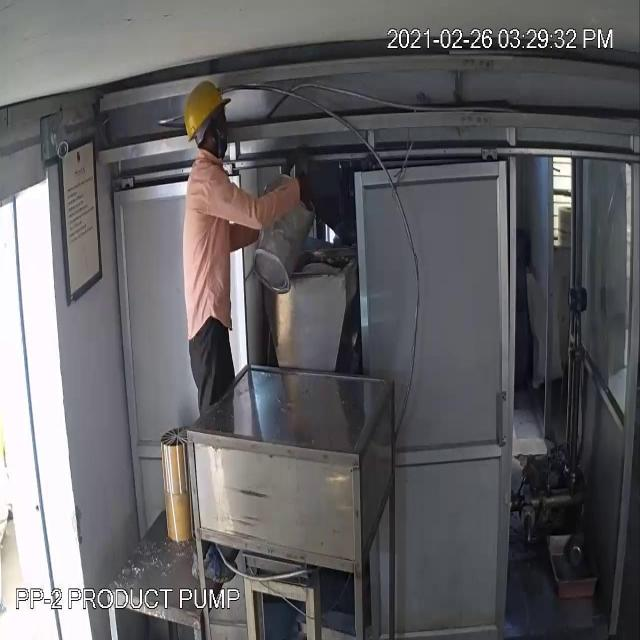hat: (178, 81, 235, 142)
